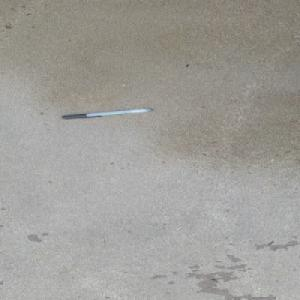Pen: (61, 107, 153, 119)
